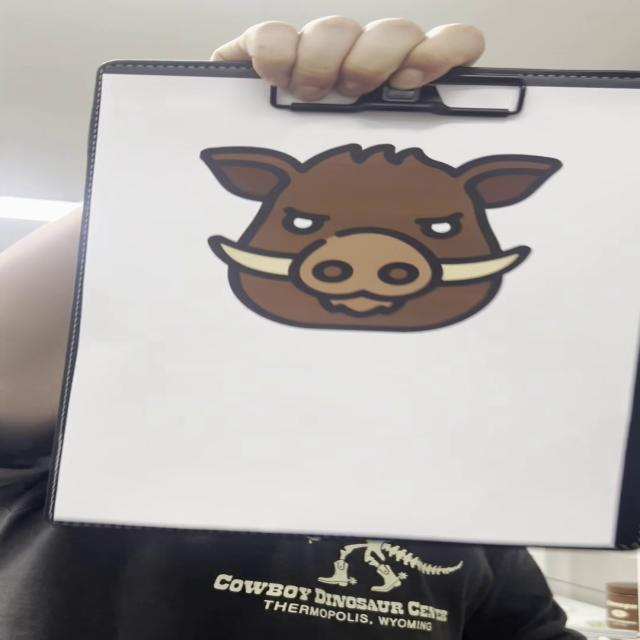animal: (201, 146, 567, 335)
